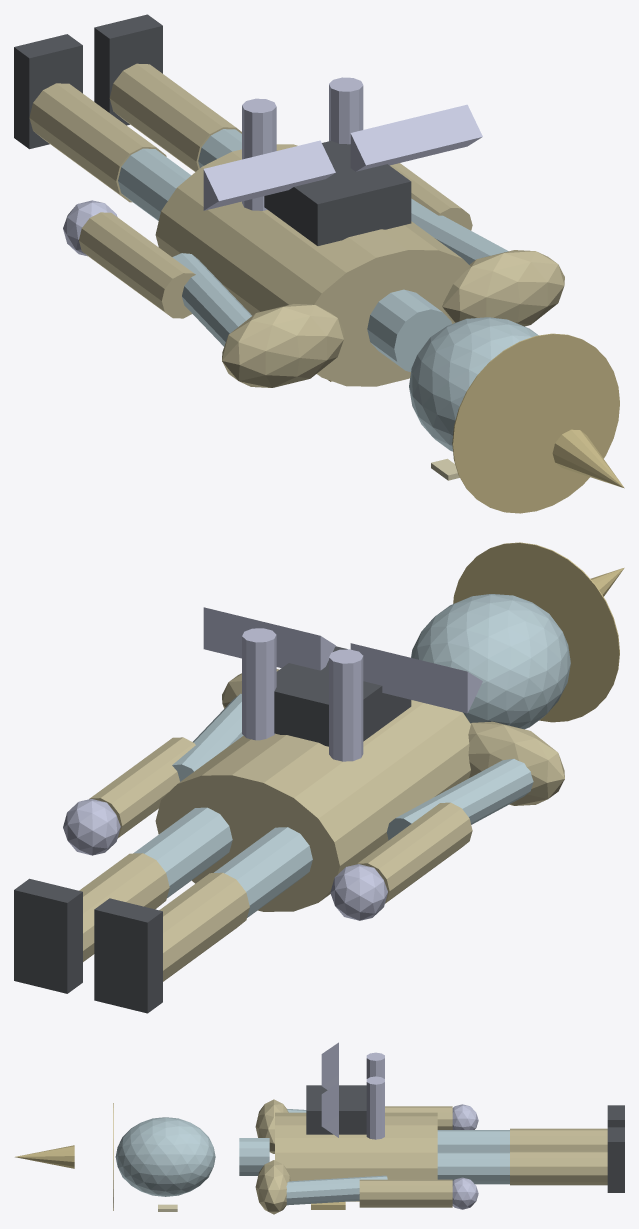
File: SWN-047_sahel_meridian.glb
3 views of the same model, one above another, from view 1: azimuth 30°, elevation 25°; view 2: azimuth 150°, elevation 25°; view 3: azimuth 270°, elevation 25° (orthographic). The views are drawn at different scales.
Visible parts, largest first — view 1: body_spine, rank_halo_ring, back_thruster_pack, shoulder_plate_-1, head, shoulder_plate_1, greave_-1, greave_1, forearm_gauntlet_-1, zero_g_winglet_-1, zero_g_winglet_1, boot_-1 (+11 smaller); view 2: body_spine, head, rank_halo_ring, boot_-1, boot_1, greave_-1, back_thruster_pack, forearm_gauntlet_-1, zero_g_winglet_-1, shoulder_plate_-1, thigh_1, thigh_-1 (+9 smaller); view 3: body_spine, head, greave_1, forearm_gauntlet_1, back_thruster_pack, greave_-1, thigh_1, upper_arm_1, thigh_-1, shoulder_plate_1, boot_1, aether_thruster_1 (+11 smaller).
Part boxes in pixels (bbox=[...]): body_spine: bbox=[155, 144, 470, 386]; rank_halo_ring: bbox=[452, 333, 619, 513]; back_thruster_pack: bbox=[264, 141, 411, 245]; shoulder_plate_-1: bbox=[222, 304, 344, 387]; head: bbox=[409, 317, 538, 451]; shoulder_plate_1: bbox=[442, 250, 564, 326]; greave_-1: bbox=[29, 83, 166, 202]; greave_1: bbox=[109, 63, 241, 171]; forearm_gauntlet_-1: bbox=[79, 212, 195, 318]; zero_g_winglet_-1: bbox=[203, 140, 335, 210]; zero_g_winglet_1: bbox=[350, 104, 482, 171]; boot_-1: bbox=[14, 34, 82, 149]; body_spine: bbox=[155, 700, 470, 911]; head: bbox=[411, 594, 570, 729]; rank_halo_ring: bbox=[453, 542, 619, 722]; boot_-1: bbox=[94, 898, 162, 1013]; boot_1: bbox=[14, 878, 82, 993]; greave_-1: bbox=[159, 872, 249, 981]; back_thruster_pack: bbox=[274, 646, 411, 746]; forearm_gauntlet_-1: bbox=[356, 802, 472, 903]; zero_g_winglet_-1: bbox=[350, 643, 482, 713]; shoulder_plate_-1: bbox=[468, 721, 564, 805]; thigh_1: bbox=[133, 807, 232, 897]; thigh_-1: bbox=[214, 827, 312, 917]; body_spine: bbox=[275, 1112, 437, 1201]; head: bbox=[115, 1117, 215, 1196]; greave_1: bbox=[510, 1150, 607, 1185]; forearm_gauntlet_1: bbox=[359, 1179, 452, 1207]; back_thruster_pack: bbox=[306, 1085, 366, 1134]; greave_-1: bbox=[510, 1128, 607, 1150]; thigh_1: bbox=[437, 1152, 509, 1184]; upper_arm_1: bbox=[286, 1175, 387, 1205]; thigh_-1: bbox=[437, 1130, 509, 1151]; shoulder_plate_1: bbox=[255, 1160, 290, 1214]; boot_1: bbox=[607, 1127, 624, 1192]; aether_thruster_1: bbox=[366, 1076, 384, 1139].
Size of the model in its own units: 1.03 by 0.7 by 2.82.
